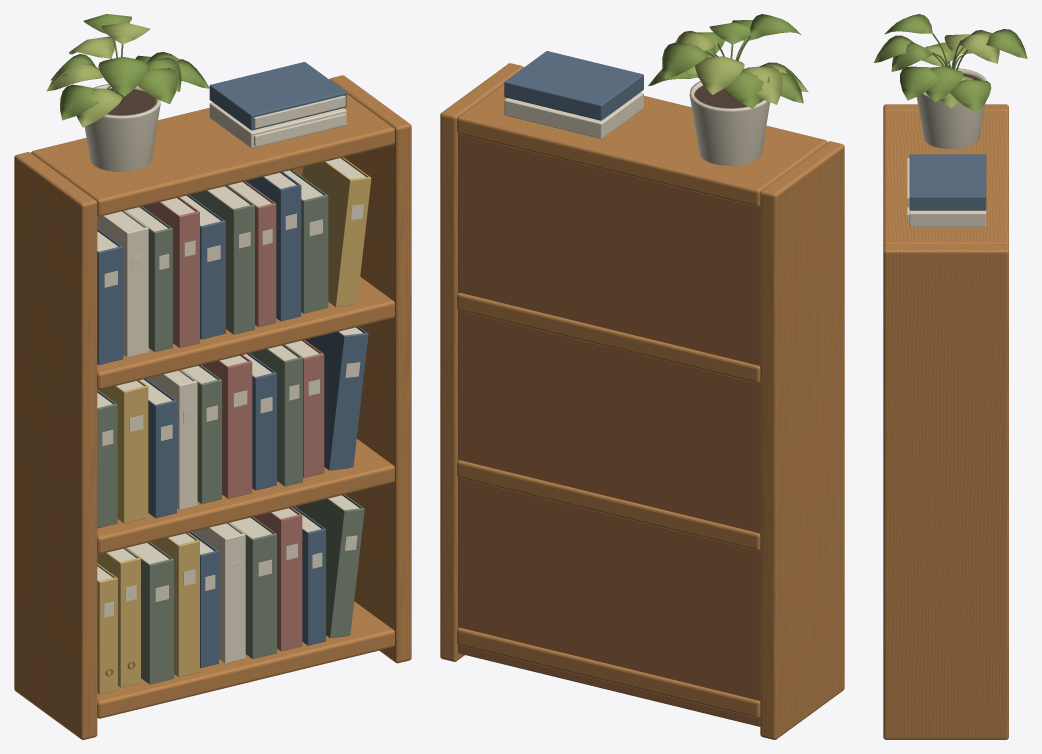
File: prop_bookshelf_blender_v2.glb
3 renders of one model, left to right at view 1: azimuth 30°, elevation 25°; view 2: azimuth 150°, elevation 25°; view 3: azimuth 270°, elevation 25°, orthographic. The views are drawn at different scales.
Parts seen in each view (by area): view 1: WoodSide_L, WoodSide_R, Shelf_3, Shelf_1, Shelf_2, Shelf_0, StackedBook_1, CeramicPot, Book_R1_01_Spine, Book_R1_09_Spine, Book_R1_05_Spine, Book_R0_06_Spine (+58 smaller); view 2: RecessedBack, WoodSide_L, Shelf_3, WoodSide_R, StackedBook_1, Shelf_1, Shelf_0, Shelf_2, CeramicPot, StackedBook_0, CurvedLeaf_06, CurvedLeaf_11 (+4 smaller); view 3: WoodSide_R, Shelf_3, StackedBook_1, CeramicPot, StackedBook_0, CurvedLeaf_05, CurvedLeaf_08, CurvedLeaf_13, CurvedLeaf_11, CurvedLeaf_03, CurvedLeaf_10, CurvedLeaf_07 (+4 smaller).
Part boxes in pixels (left/top/right/bottom): WoodSide_L: left=14, top=152, right=97, bottom=739; WoodSide_R: left=329, top=75, right=411, bottom=663; Shelf_3: left=31, top=94, right=394, bottom=216; Shelf_1: left=97, top=439, right=394, bottom=553; Shelf_2: left=97, top=277, right=394, bottom=389; Shelf_0: left=97, top=601, right=394, bottom=718; StackedBook_1: left=209, top=62, right=346, bottom=130; CeramicPot: left=84, top=84, right=160, bottom=171; Book_R1_01_Spine: left=123, top=385, right=147, bottom=523; Book_R1_09_Spine: left=330, top=333, right=367, bottom=470; Book_R1_05_Spine: left=228, top=361, right=251, bottom=498; Book_R0_06_Spine: left=251, top=533, right=276, bottom=658; RecessedBack: left=458, top=134, right=760, bottom=726; WoodSide_L: left=760, top=141, right=844, bottom=739; Shelf_3: left=457, top=83, right=827, bottom=206; WoodSide_R: left=440, top=63, right=523, bottom=661; StackedBook_1: left=504, top=51, right=643, bottom=120; Shelf_1: left=457, top=460, right=760, bottom=550; Shelf_0: left=457, top=627, right=760, bottom=718; Shelf_2: left=457, top=293, right=760, bottom=383; CeramicPot: left=689, top=81, right=769, bottom=165; StackedBook_0: left=504, top=92, right=643, bottom=138; CurvedLeaf_06: left=695, top=56, right=744, bottom=94; CurvedLeaf_11: left=662, top=43, right=708, bottom=79; WoodSide_R: left=883, top=244, right=1008, bottom=739; Shelf_3: left=883, top=111, right=1008, bottom=246; StackedBook_1: left=909, top=154, right=986, bottom=210; CeramicPot: left=916, top=68, right=987, bottom=148; StackedBook_0: left=909, top=210, right=986, bottom=226; CurvedLeaf_05: left=900, top=66, right=941, bottom=100; CurvedLeaf_08: left=950, top=79, right=991, bottom=112; CurvedLeaf_13: left=926, top=66, right=963, bottom=102; CurvedLeaf_11: left=986, top=29, right=1027, bottom=58; CurvedLeaf_03: left=959, top=32, right=999, bottom=63; CurvedLeaf_10: left=891, top=42, right=932, bottom=71; CurvedLeaf_07: left=885, top=14, right=932, bottom=34.
Size of the model in its own units: 1 by 1.9 by 0.4417.
Materials: 12 (1 with a texture image).
